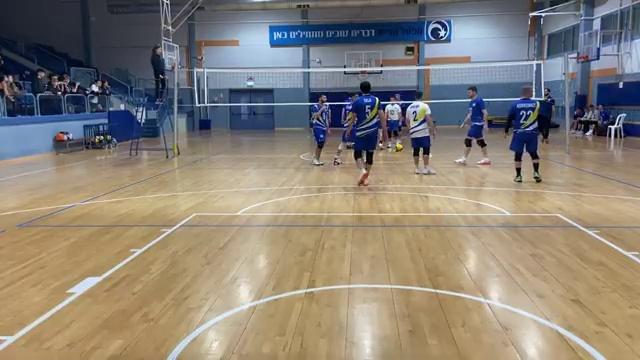ball: (391, 142, 405, 155)
